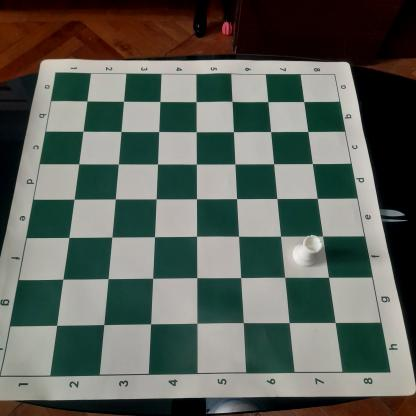white-rook: (290, 235, 323, 268)
